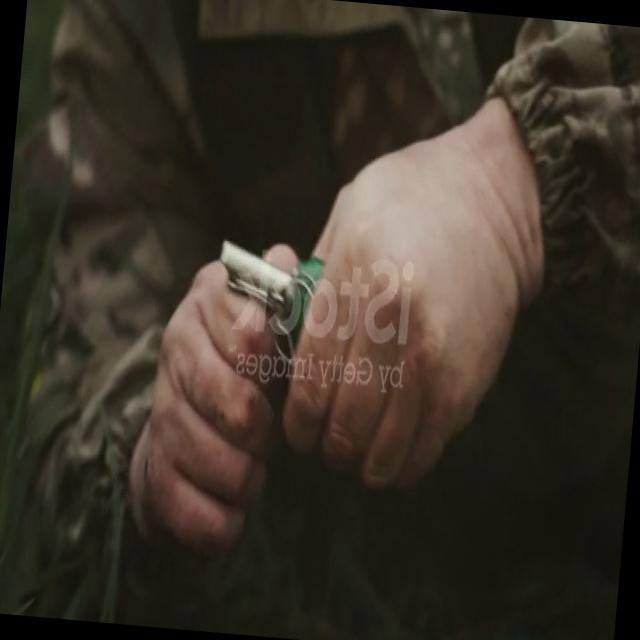grenade: (210, 222, 324, 356)
